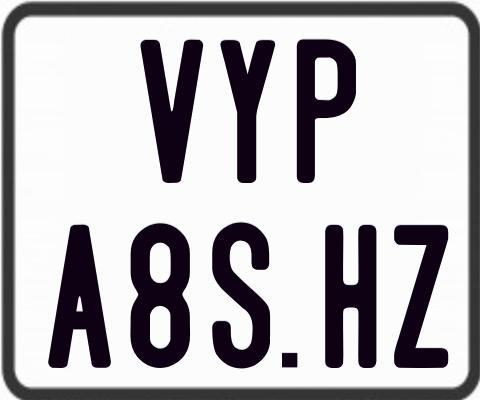8: (130, 221, 192, 366)
A: (45, 223, 112, 372)
H: (325, 222, 377, 365)
P: (297, 38, 357, 187)
S: (210, 220, 268, 366)
V: (138, 40, 202, 187)
Y: (220, 39, 276, 184)
Z: (392, 222, 446, 370)
